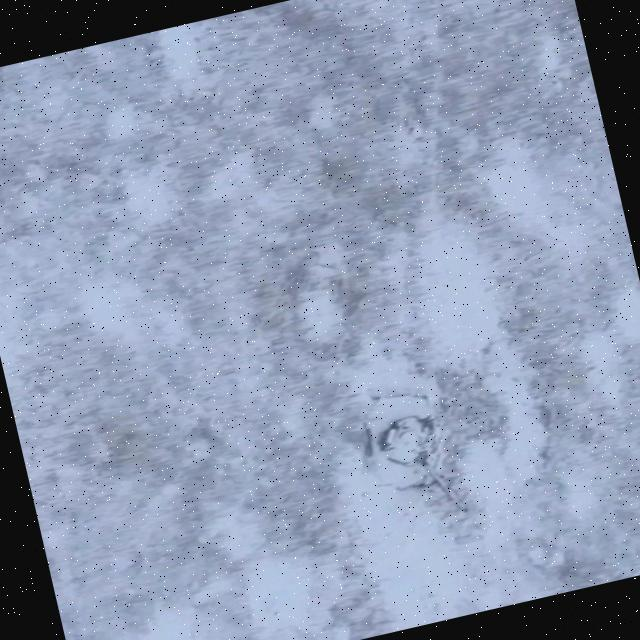MBT: (356, 385, 474, 528)
